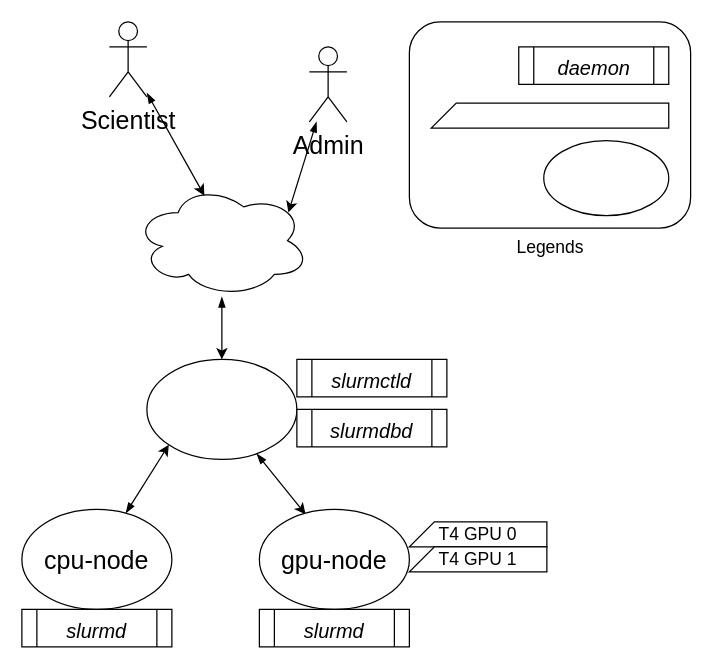
Image size: 713x669. Some labels were removed from this diagram. The shapes that lost their labels are listed below. From the top down, each one's centre as x and y in pixels, then its label:
pixel 549 115: Generic Resource(Gres)
pixel 605 177: hostname
pixel 221 240: Internet
pixel 221 408: proxy
